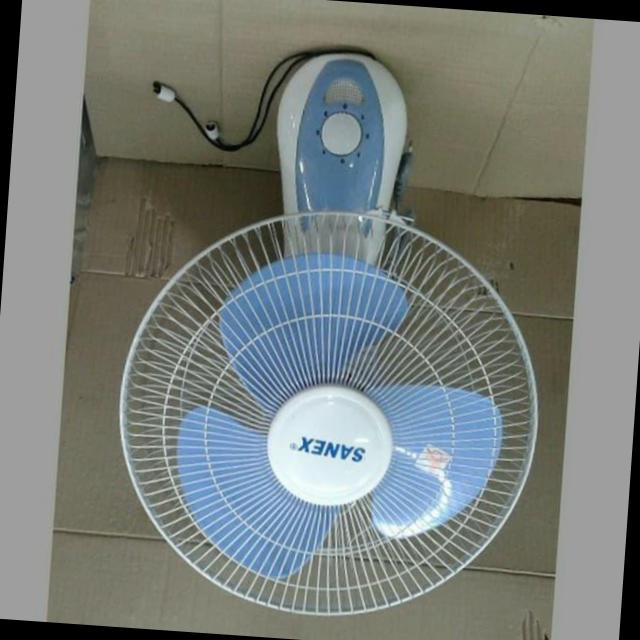fan: (97, 31, 568, 640)
